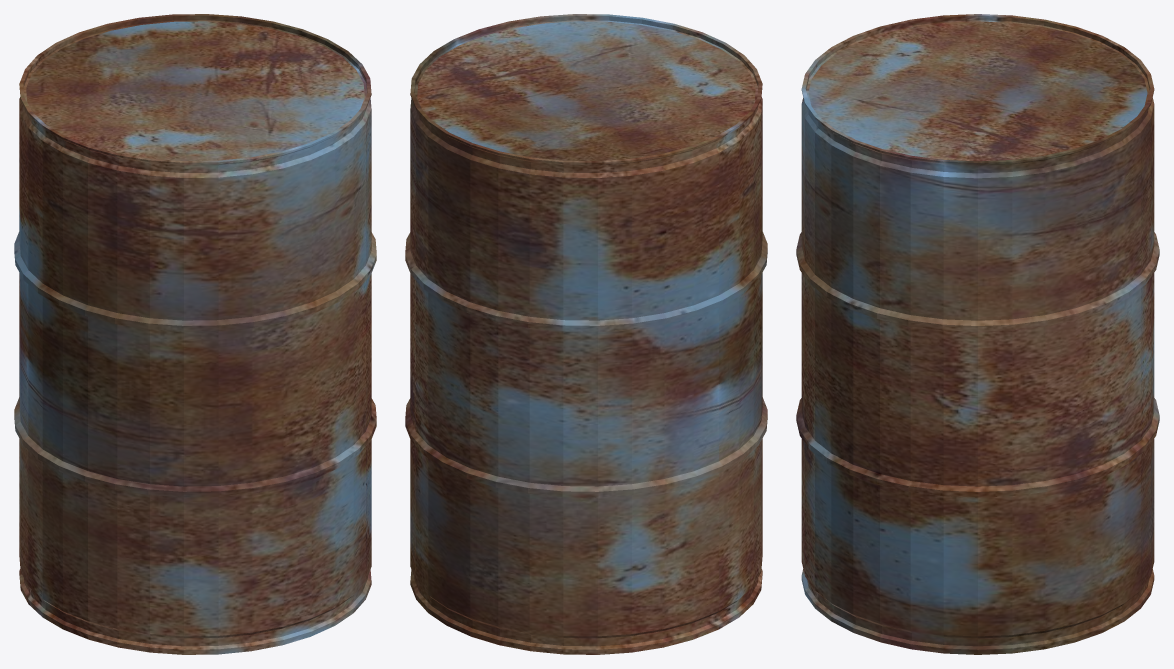
Rendered from Target02.glb.
The picture shows the model from 3 angles, left to right: view 1: azimuth 30°, elevation 25°; view 2: azimuth 150°, elevation 25°; view 3: azimuth 270°, elevation 25°; orthographic projection.
Parts seen in each view (by area): view 1: Barrel005_Cylinder005; view 2: Barrel005_Cylinder005; view 3: Barrel005_Cylinder005.
Boxes of the visible parts, x1,y1,x2,y2 form: Barrel005_Cylinder005: [14, 14, 376, 654]; Barrel005_Cylinder005: [405, 14, 767, 654]; Barrel005_Cylinder005: [796, 14, 1159, 654].
Size of the model in its own units: 4.02 by 6.02 by 4.02.
Materials: 2 (1 with a texture image).
